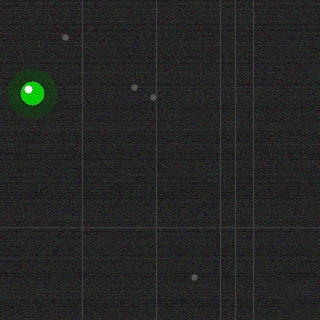green_normal: (18, 79, 46, 107)
